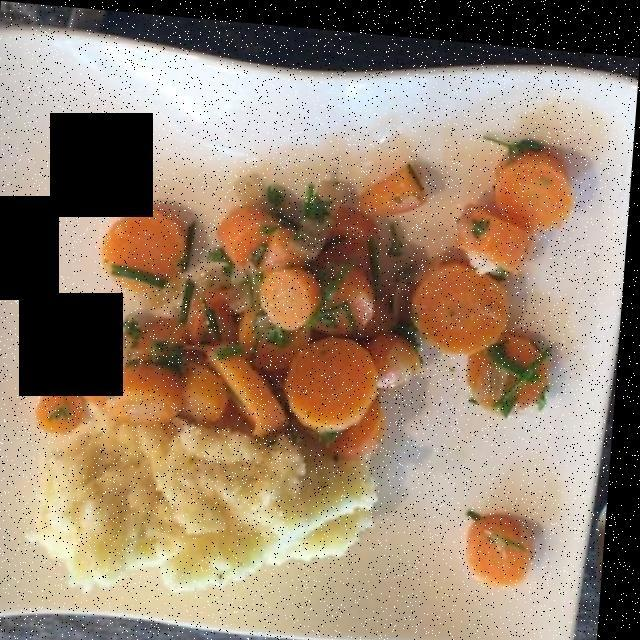carrot: (28, 138, 596, 581)
mashed-potatoes: (3, 412, 392, 575)
onion: (116, 184, 372, 371)
